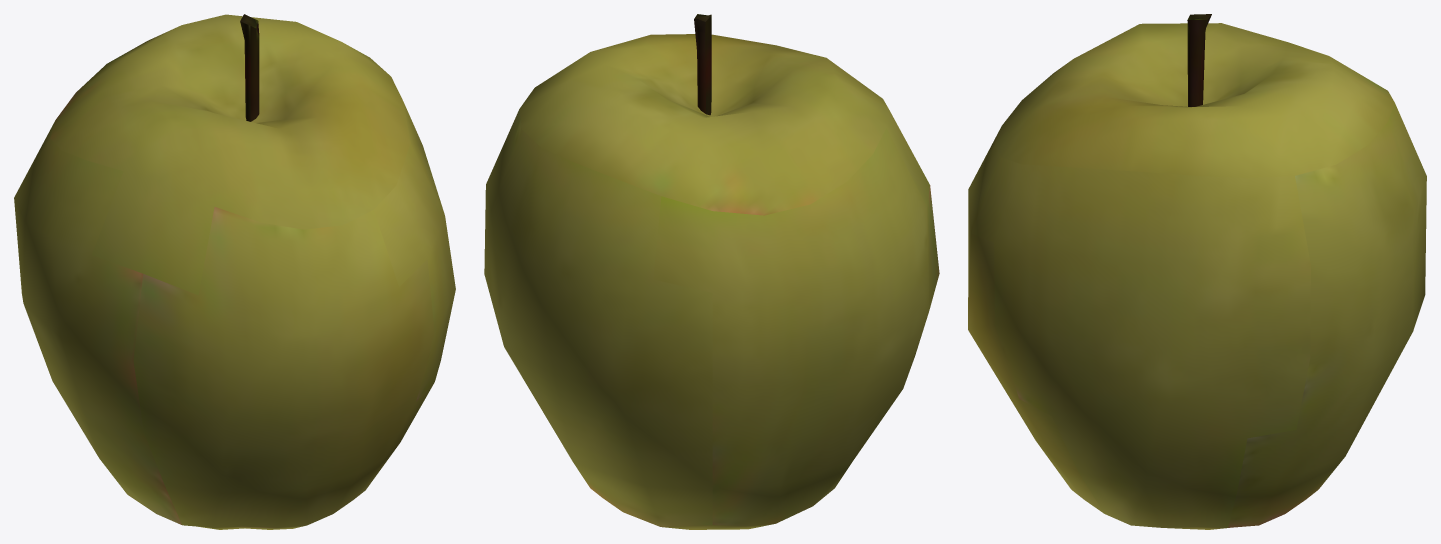
The model's file is Sm_apple_01_98d9ee.glb.
The picture shows the model from 3 angles, left to right: view 1: azimuth 30°, elevation 25°; view 2: azimuth 150°, elevation 25°; view 3: azimuth 270°, elevation 25°; orthographic projection. The views are drawn at different scales.
Size of the model in its own units: 0.1195 by 0.14 by 0.1201.
Materials: 1 (1 with a texture image).
